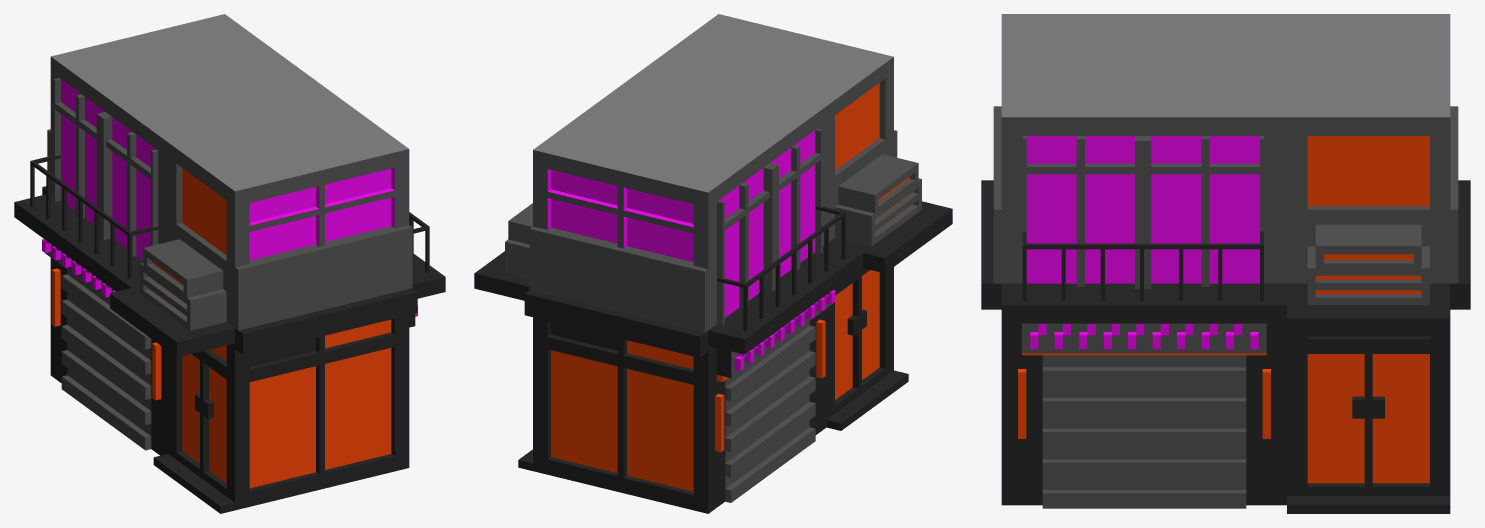
Rendered from Edificio 13.fbx.
The picture shows the model from 3 angles, left to right: view 1: azimuth 30°, elevation 25°; view 2: azimuth 150°, elevation 25°; view 3: azimuth 270°, elevation 25°; orthographic projection. The views are drawn at different scales.
Parts seen in each view (by area): view 1: Pared 2 [7278], Pared 1 [7269], [7289], Pared 2 [7272]; view 2: Pared 2 [7278], Pared 1 [7275], [7289], Pared 2 [7272]; view 3: Pared 2 [7272], [7289], Pared 1 [7269], Pared 1 [7275].
Part boxes in pixels (x1,y1,x2,y2): Pared 2 [7278]: (14,57,234,513); Pared 1 [7269]: (235,149,417,510); [7289]: (51,14,408,191); Pared 2 [7272]: (409,212,445,327); Pared 2 [7278]: (708,57,952,513); Pared 1 [7275]: (524,150,708,513); [7289]: (533,14,893,192); Pared 2 [7272]: (474,203,532,470); Pared 2 [7272]: (1001,117,1450,513); [7289]: (1001,14,1450,117); Pared 1 [7269]: (981,106,1001,309); Pared 1 [7275]: (1450,106,1470,309).
Bounding box in the file's own units: 394 × 472 × 413.
